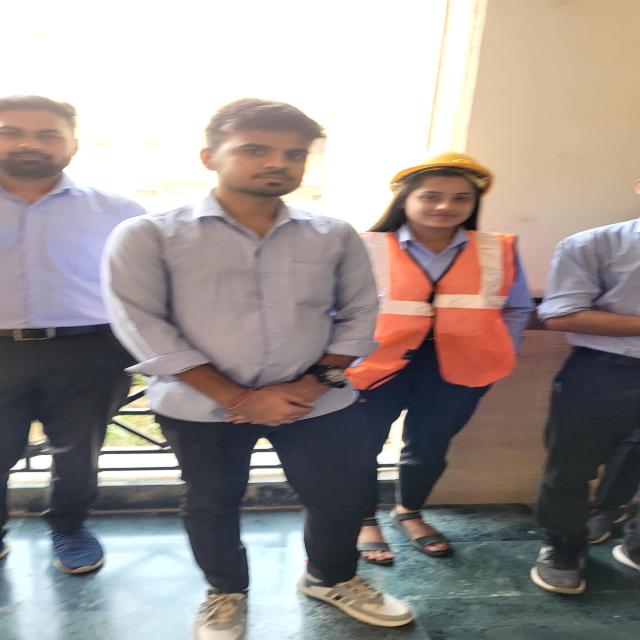safe: (357, 154, 522, 565)
unsafe: (106, 98, 418, 640), (1, 92, 170, 587)
